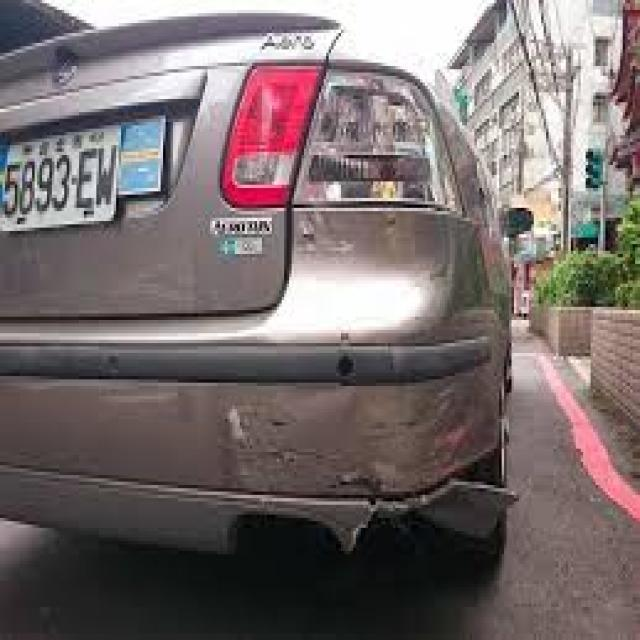minor: (218, 390, 554, 552)
